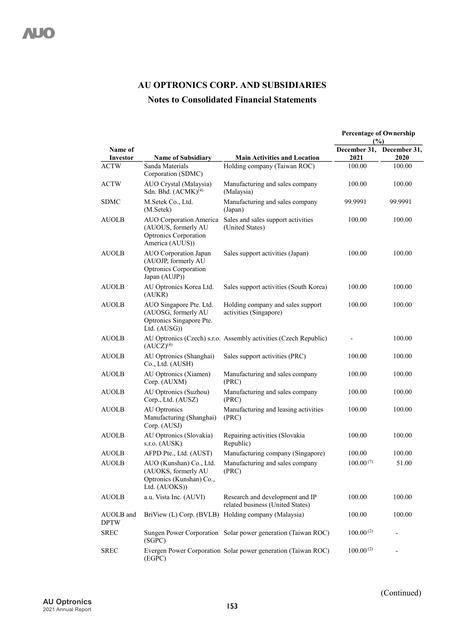box: (97, 128, 424, 564)
